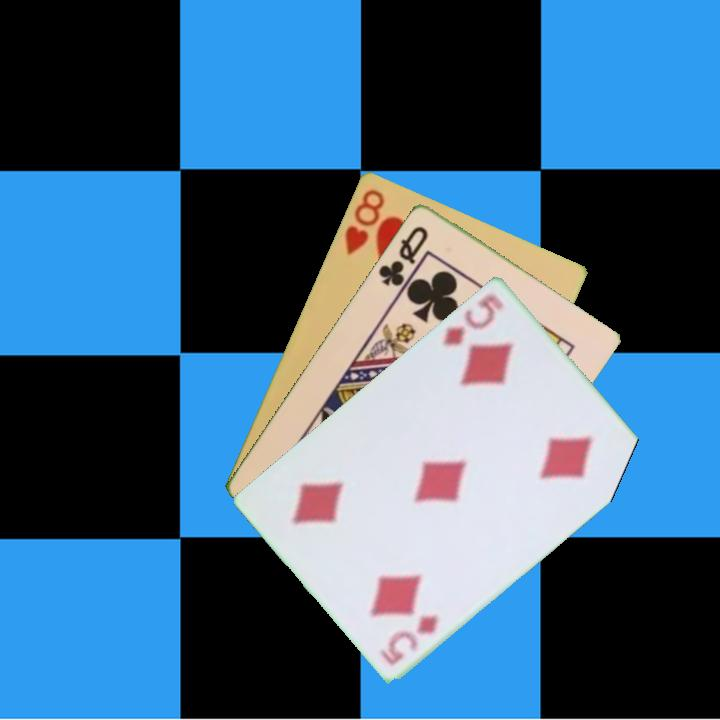5d: (438, 290, 507, 348), (376, 609, 441, 668)
8h: (340, 185, 388, 257)
Qc: (374, 221, 431, 289)
